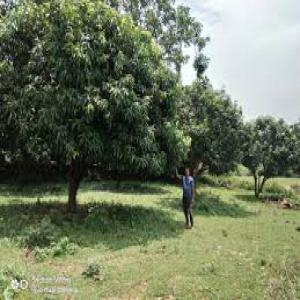Tree: (0, 0, 183, 206)
